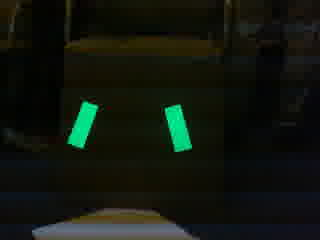target: (64, 98, 194, 153)
